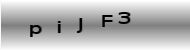3: (117, 10, 131, 24)
F: (100, 13, 113, 27)
J: (76, 17, 83, 34)
i: (56, 19, 62, 34)
p: (28, 24, 43, 38)
